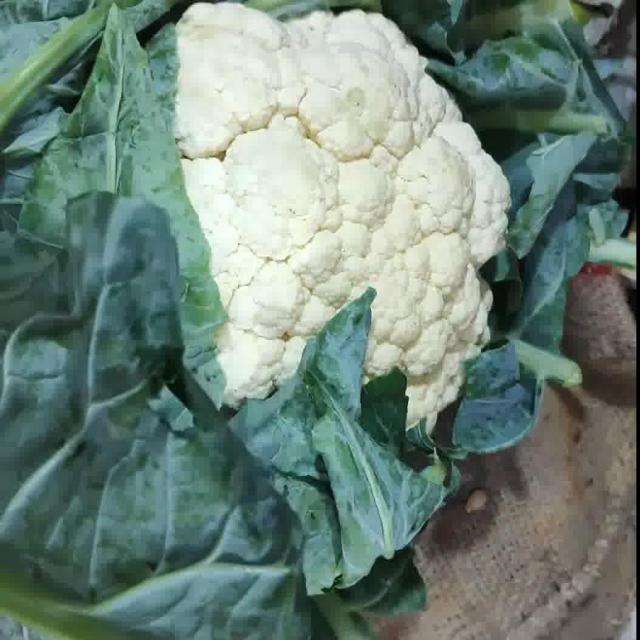Cauliflower: (175, 2, 509, 429)
